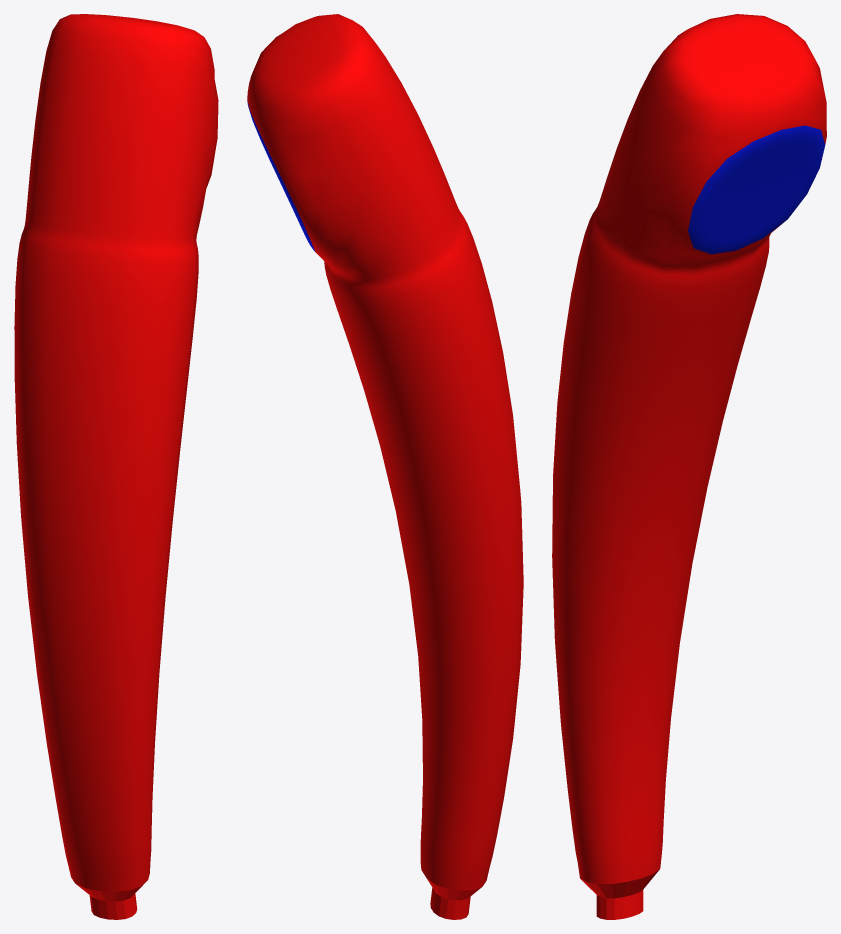
Rendered from Shower_head.fbx.
The picture shows the model from 3 angles, left to right: view 1: azimuth 30°, elevation 25°; view 2: azimuth 150°, elevation 25°; view 3: azimuth 270°, elevation 25°; orthographic projection. The views are drawn at different scales.
Parts seen in each view (by area): view 1: Shower_head; view 2: Shower_head; view 3: Shower_head.
Part boxes in pixels (left/top/right/bottom): Shower_head: left=14, top=14, right=218, bottom=919; Shower_head: left=247, top=14, right=523, bottom=919; Shower_head: left=552, top=14, right=826, bottom=919.
Bounding box in the file's own units: 12.02 × 45.83 × 12.41.
